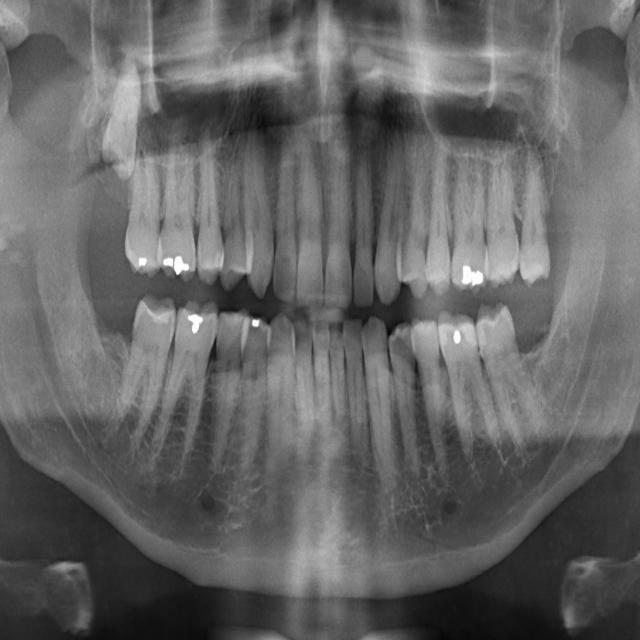3M ESPE Implant: (99, 43, 147, 183)
AGS Medikal Implant: (354, 141, 374, 307)
AMerOss Implant: (373, 123, 407, 307)
Amalgam filling: (398, 135, 429, 298)
Anthogyr Implant: (421, 137, 452, 296)
Bicon Implant: (447, 154, 488, 296)
BioHorizons Implant: (487, 165, 519, 288)
BioLife Implant: (518, 147, 557, 291)
Blue Sky Bio Implant: (507, 379, 508, 380)
Camlog Implant: (431, 303, 506, 468)
Caries: (129, 215, 130, 216)
Composite filling: (410, 315, 457, 486)
Cowellmedi Implant: (385, 323, 433, 474)
Crown: (361, 315, 395, 492)
DENTSPLY Implant: (344, 320, 367, 469)
Dentatus Implant: (329, 321, 347, 425)
Dentis Implant: (313, 320, 330, 419)
Dentium Implant: (294, 316, 315, 458)
Euroteknika Implant: (264, 312, 296, 470)
Filling: (237, 312, 269, 466)
Frontier Implant: (204, 308, 245, 475)
Hiossen Implant: (174, 274, 176, 276)
Implant: (101, 288, 185, 451)
Implant Direct: (149, 296, 222, 468)
MIS Implant: (197, 124, 222, 285)
Mandible: (219, 146, 252, 292)
Maxilla: (243, 112, 274, 299)
Megagen Implant: (273, 130, 302, 301)
Neodent Implant: (297, 127, 326, 308)
Neoss Implant: (324, 139, 355, 307)
